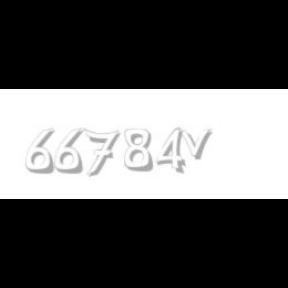4: (156, 128, 186, 174)
6: (54, 128, 84, 176), (26, 128, 54, 176)
7: (84, 128, 120, 178)
8: (124, 128, 153, 172)
v: (176, 128, 216, 160)
